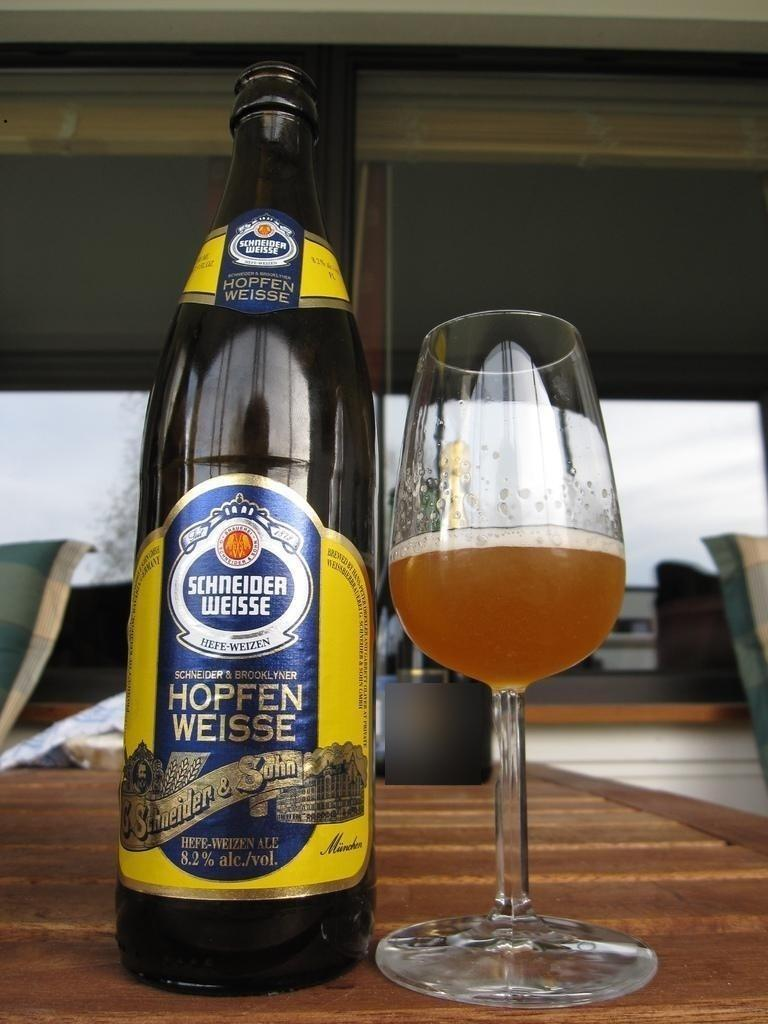bottle-glass: (114, 57, 379, 995)
glass-wine: (377, 304, 656, 1005)
